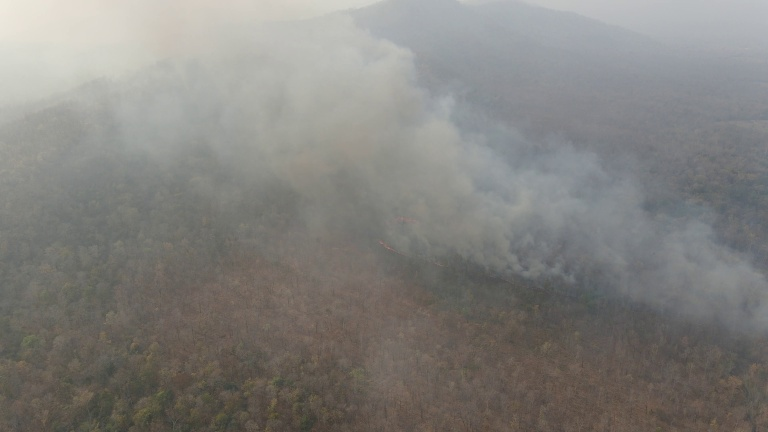fire: (389, 211, 420, 225), (376, 239, 404, 253)
smoke: (115, 2, 611, 291)
